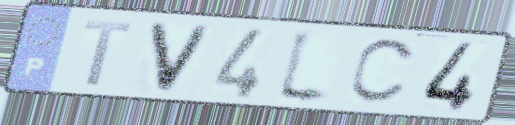4: (209, 25, 269, 101), (420, 39, 478, 115)
C: (345, 37, 421, 107)
L: (271, 26, 336, 110)
T: (80, 17, 136, 89)
V: (146, 19, 218, 96)
